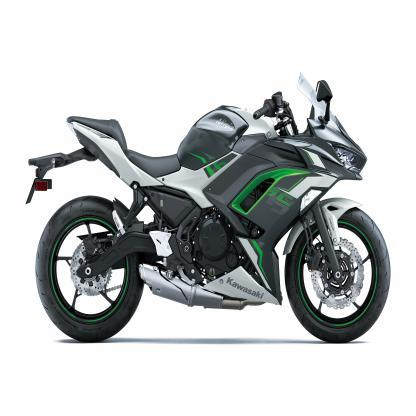Motorcycle: (20, 63, 395, 345)
